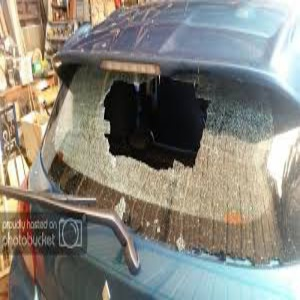rear_windshield_glass: (67, 78, 257, 208)
